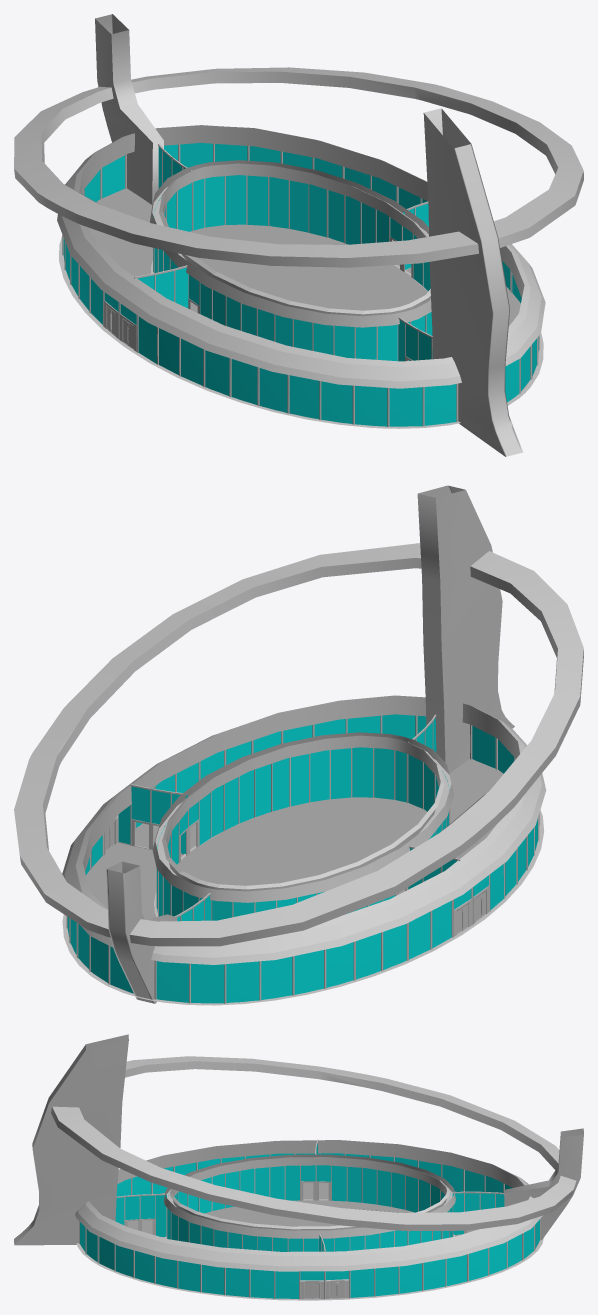
The model's file is Dome Interior Collider.fbx.
3 views of the same model, one above another, from view 1: azimuth 30°, elevation 25°; view 2: azimuth 150°, elevation 25°; view 3: azimuth 270°, elevation 25° (orthographic). The views are drawn at different scales.
Parts seen in each view (by area): view 1: Black, Dome_Int, Dome_Int1, Dome_Int2, Dome_Int4, Dome_Int5; view 2: Black, Dome_Int, Dome_Int1, Dome_Int3; view 3: Black, Dome_Int, Dome_Int1, Dome_Int4, Dome_Int5.
Boxes of the visible parts, left/top/right/bottom form: Black: left=14, top=14, right=583, bottom=456; Dome_Int: left=57, top=125, right=545, bottom=428; Dome_Int1: left=150, top=160, right=432, bottom=361; Dome_Int2: left=134, top=265, right=188, bottom=308; Dome_Int4: left=398, top=317, right=432, bottom=361; Dome_Int5: left=158, top=144, right=191, bottom=188; Black: left=14, top=485, right=583, bottom=1003; Dome_Int: left=62, top=695, right=546, bottom=1005; Dome_Int1: left=152, top=732, right=453, bottom=920; Dome_Int3: left=118, top=784, right=187, bottom=854; Black: left=14, top=1034, right=583, bottom=1266; Dome_Int: left=75, top=1140, right=543, bottom=1300; Dome_Int1: left=163, top=1154, right=455, bottom=1251; Dome_Int4: left=115, top=1194, right=166, bottom=1237; Dome_Int5: left=452, top=1191, right=504, bottom=1235.
Size of the model in its own units: 4786 by 3069 by 7685.
